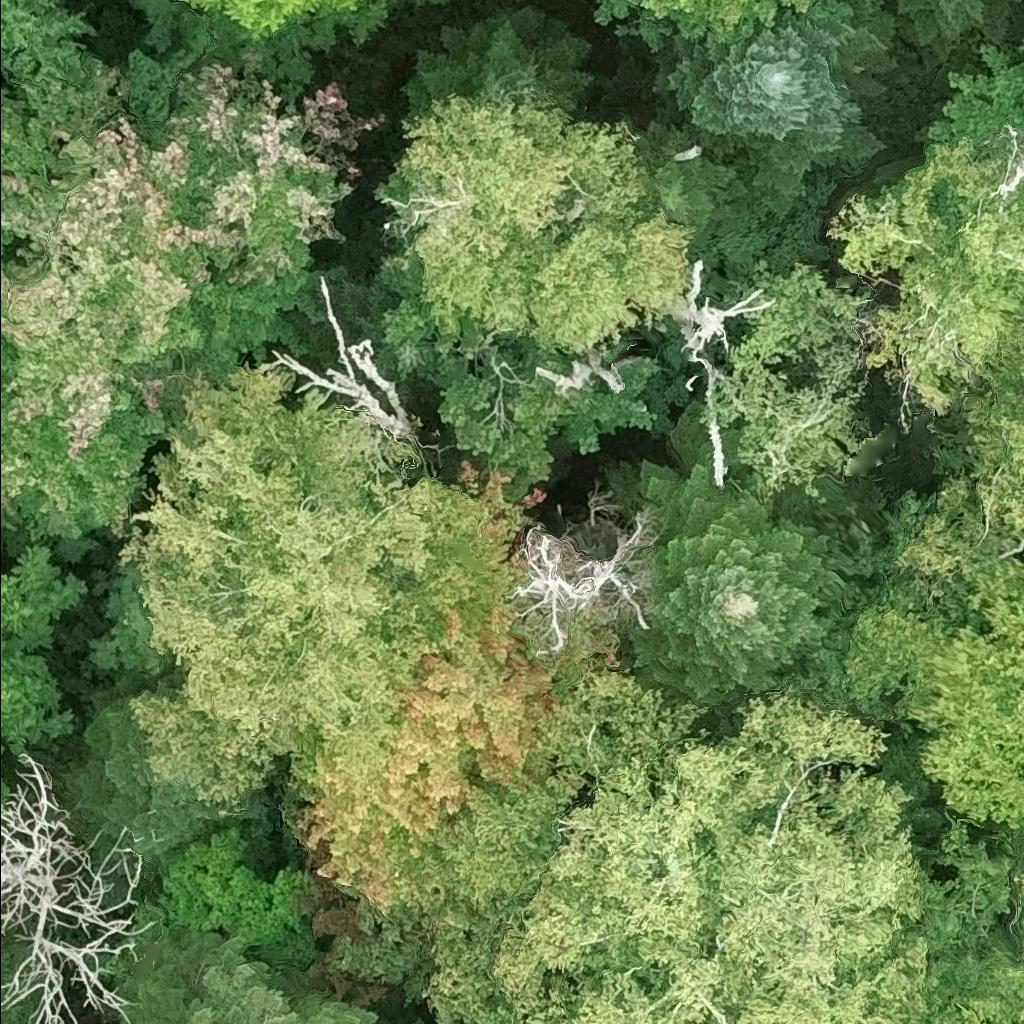crown: (328, 664, 1012, 1023), (0, 48, 384, 540), (115, 366, 485, 816), (281, 463, 621, 916), (830, 124, 1023, 615), (384, 95, 693, 350), (379, 260, 666, 494), (625, 400, 843, 706), (656, 0, 893, 216), (0, 752, 133, 1023), (121, 925, 375, 1023), (507, 490, 655, 655), (670, 260, 777, 488), (904, 632, 1023, 829), (76, 697, 216, 856), (160, 828, 306, 940), (841, 581, 974, 701), (610, 0, 830, 48), (174, 0, 391, 48), (932, 928, 1023, 1023), (946, 552, 1023, 655), (0, 0, 92, 81), (896, 0, 1014, 62), (930, 994, 997, 1023), (1013, 905, 1023, 951)
